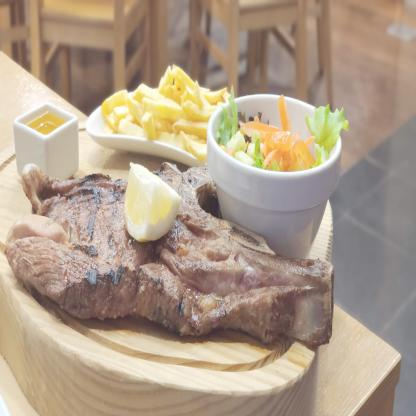Carne: (4, 159, 338, 352)
